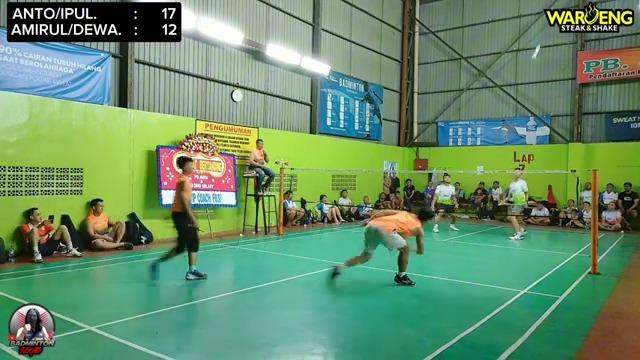Shuttlecock: (531, 40, 543, 60)
